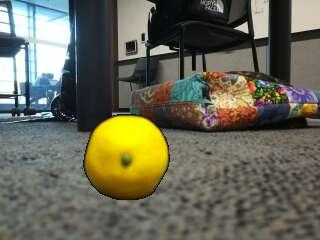lemon: (85, 115, 168, 199)
